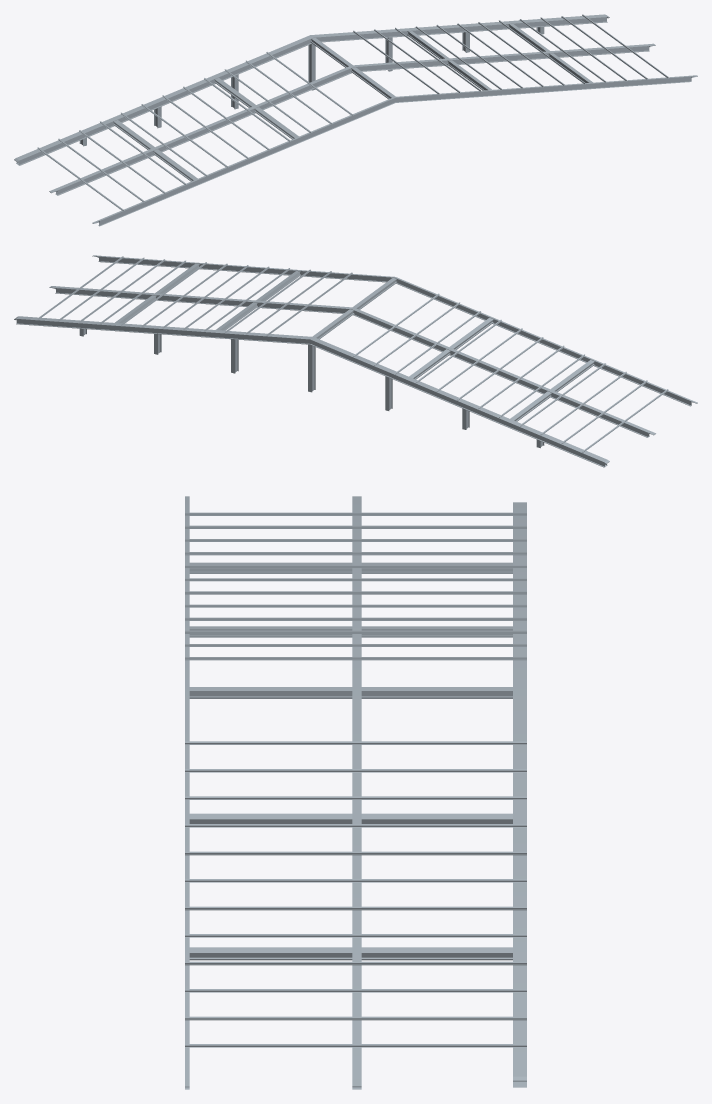
File: SM06_Building_Structure_Roof_Gable_01_Corner.fbx
The picture shows the model from 3 angles, top to bottom: view 1: azimuth 30°, elevation 25°; view 2: azimuth 150°, elevation 25°; view 3: azimuth 270°, elevation 25°; orthographic projection. The views are drawn at different scales.
Parts seen in each view (by area): view 1: SM06_Building_Structure_Roof_Gable_01_Corner; view 2: SM06_Building_Structure_Roof_Gable_01_Corner; view 3: SM06_Building_Structure_Roof_Gable_01_Corner.
Part boxes in pixels (x1,y1,x2,y2): SM06_Building_Structure_Roof_Gable_01_Corner: (14,14,697,226); SM06_Building_Structure_Roof_Gable_01_Corner: (14,255,697,467); SM06_Building_Structure_Roof_Gable_01_Corner: (185,496,526,1089).
Bounding box in the file's own units: 58.84 × 5.26 × 14.42.
